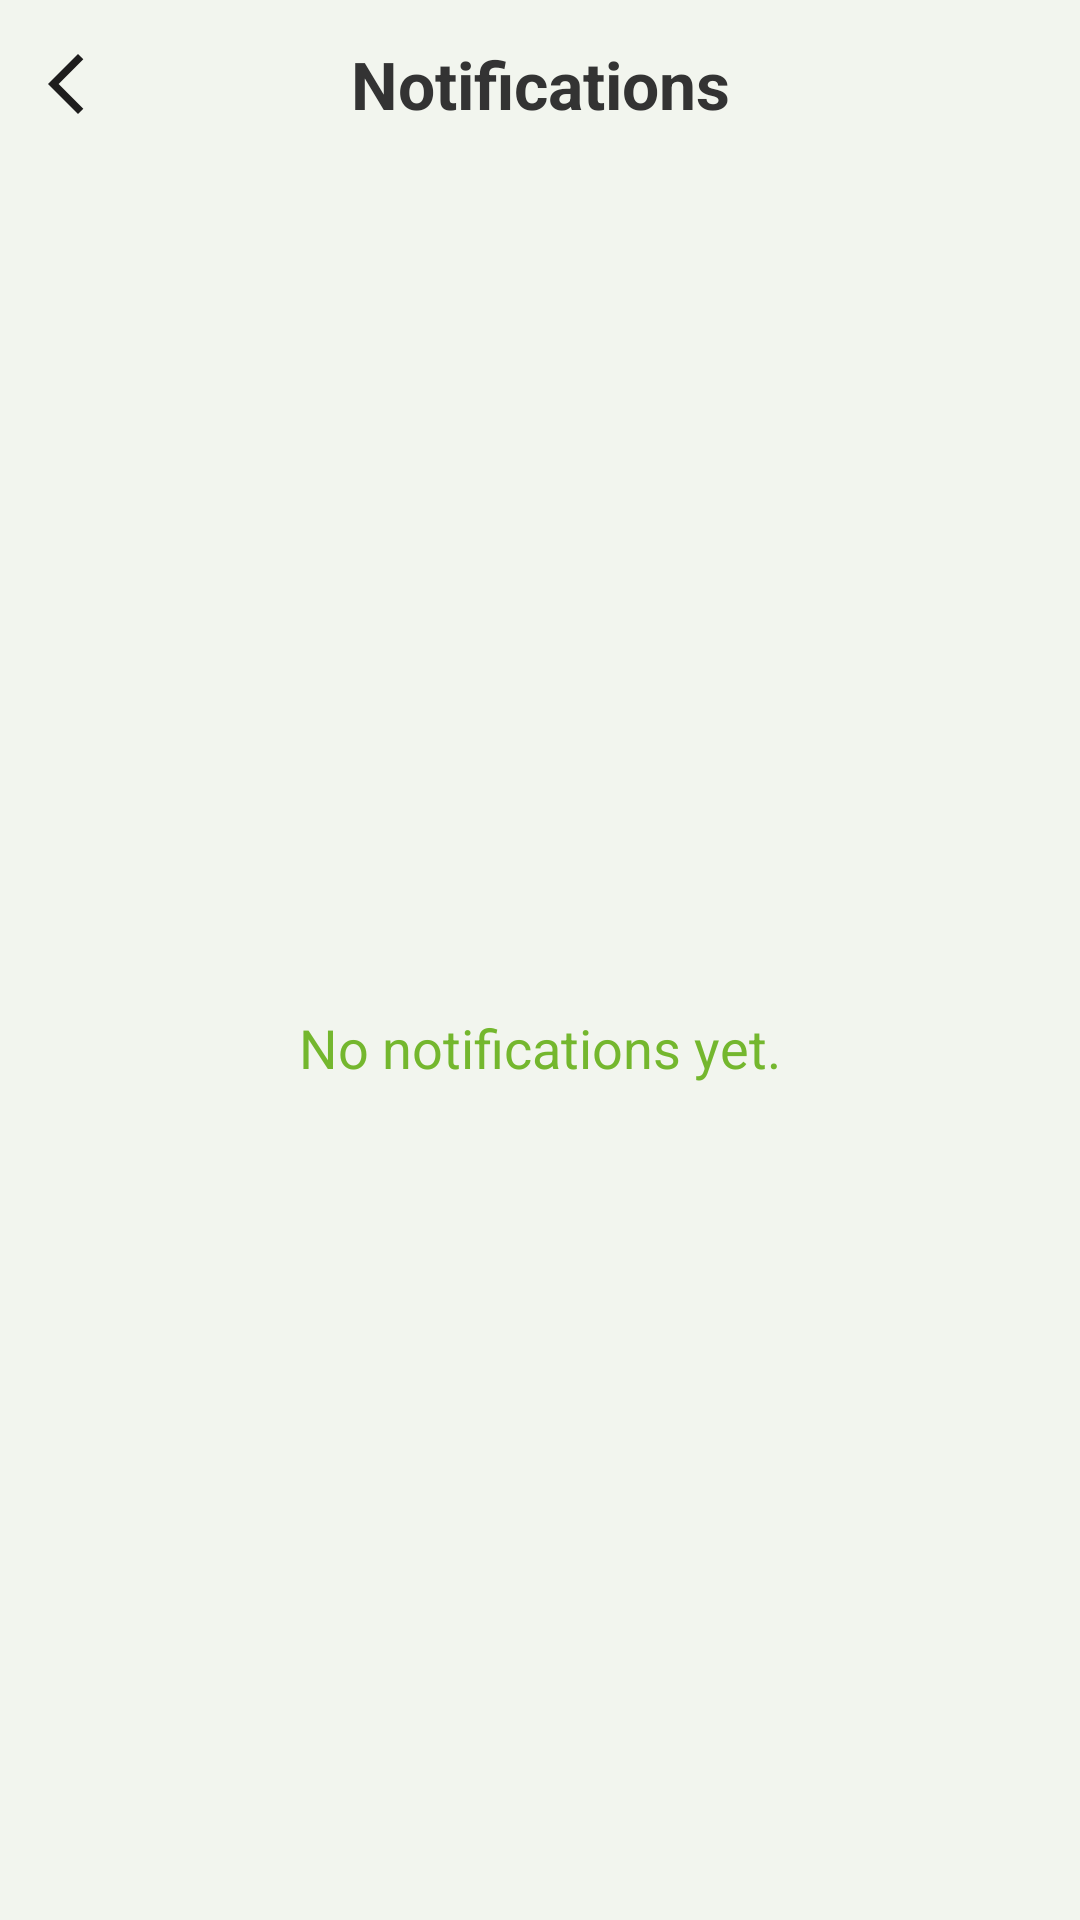

Screen size 1080 × 1920. Icon name, then its box in pixels as (x1, y1, x2, y2):
Back: (48, 54, 83, 114)
